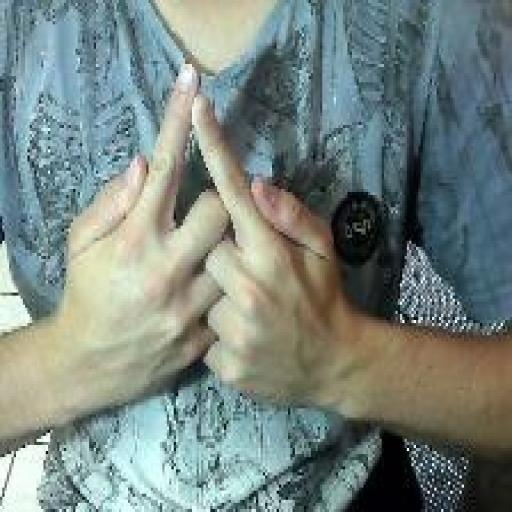Uma -horse-: (59, 58, 343, 414)
